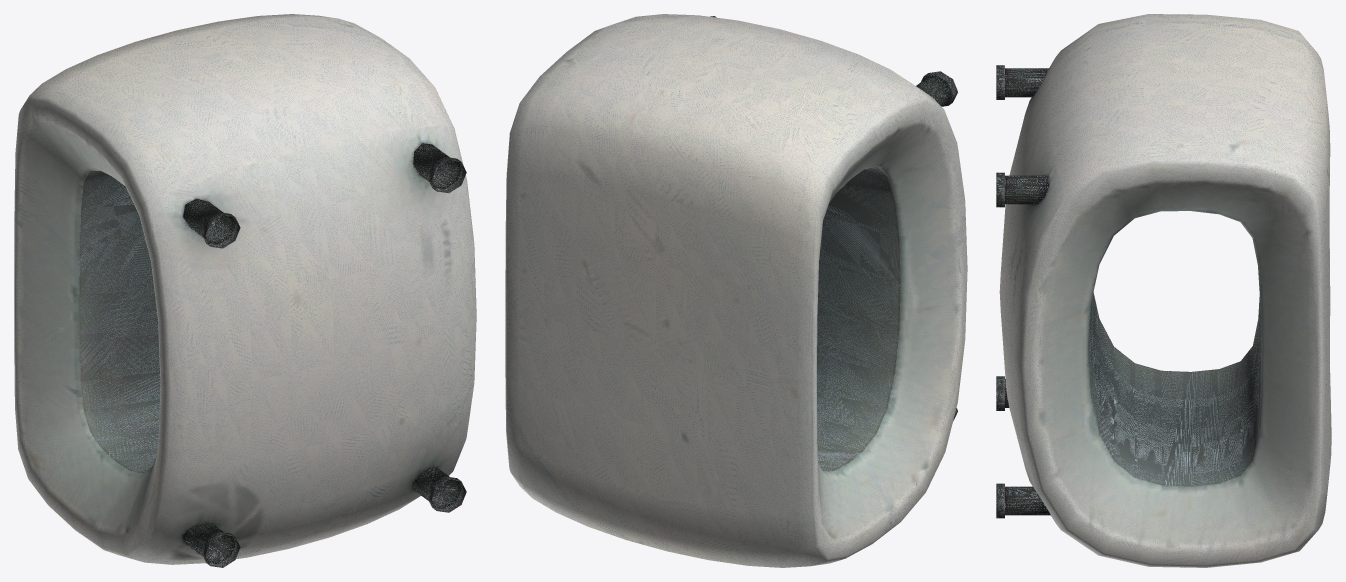
3 renders of one model, left to right at view 1: azimuth 30°, elevation 25°; view 2: azimuth 150°, elevation 25°; view 3: azimuth 270°, elevation 25°, orthographic. The views are drawn at different scales.
Visible parts, largest first — view 1: table_reference_reference (×5); view 2: table_reference_reference (×2); view 3: table_reference_reference (×4).
Part boxes in pixels (x1,y1,x2,y2): table_reference_reference (×5): (14, 14, 476, 567); table_reference_reference (×2): (505, 14, 967, 567); table_reference_reference (×4): (996, 14, 1331, 567).
Size of the model in its own units: 23.53 by 22.6 by 34.05.
Materials: 2 (1 with a texture image).
